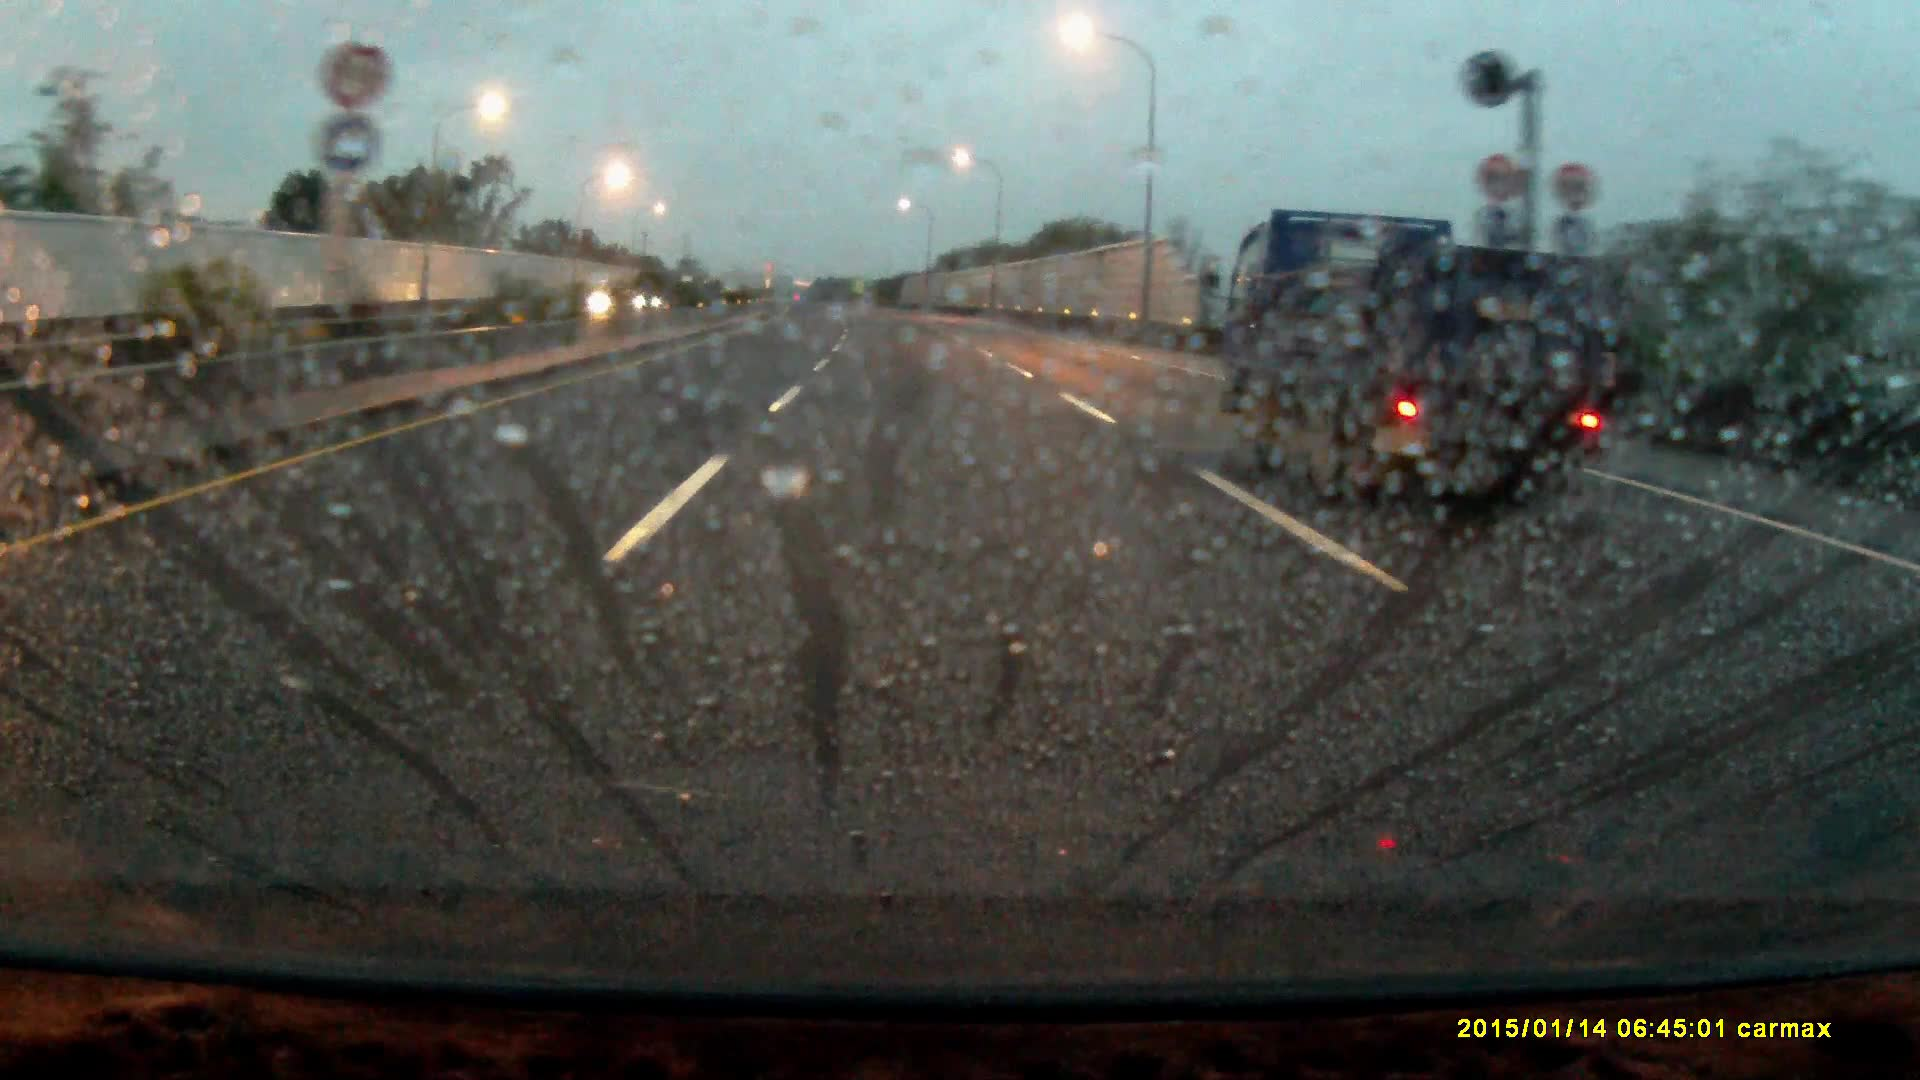vehicle: (1220, 203, 1643, 534)
